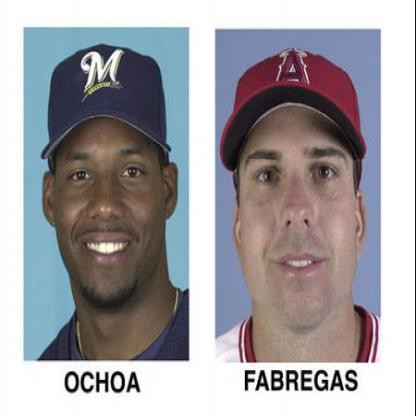face: (238, 56, 360, 334), (52, 54, 167, 312)
